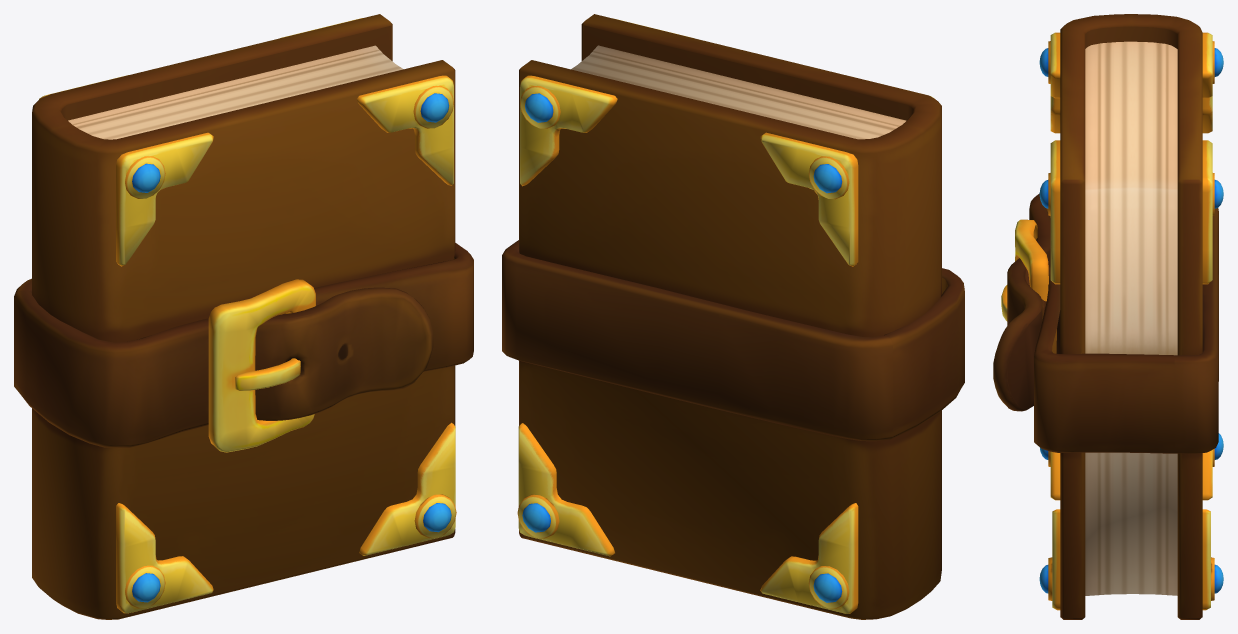
File: ShuJi2.FBX
3 views of the same model, side by side, from view 1: azimuth 30°, elevation 25°; view 2: azimuth 150°, elevation 25°; view 3: azimuth 270°, elevation 25° (orthographic). The views are drawn at different scales.
Visible parts, largest first — view 1: ShuJi; view 2: ShuJi; view 3: ShuJi.
Part boxes in pixels (bbox=[...]): ShuJi: bbox=[14, 14, 473, 619]; ShuJi: bbox=[502, 14, 964, 619]; ShuJi: bbox=[993, 14, 1223, 619].
Size of the model in its own units: 97.49 by 111 by 52.83.
